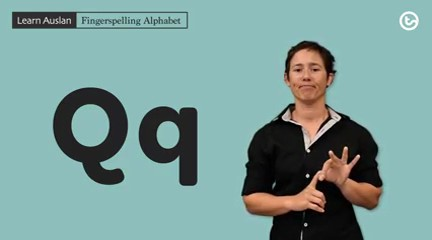Q: (298, 145, 366, 217)
